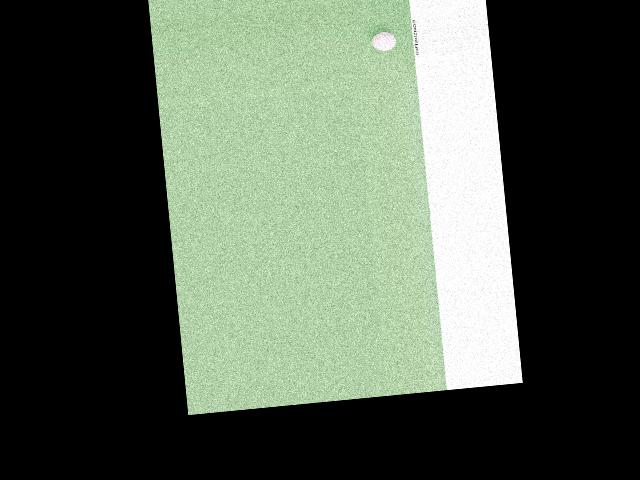egg: (371, 31, 396, 52)
